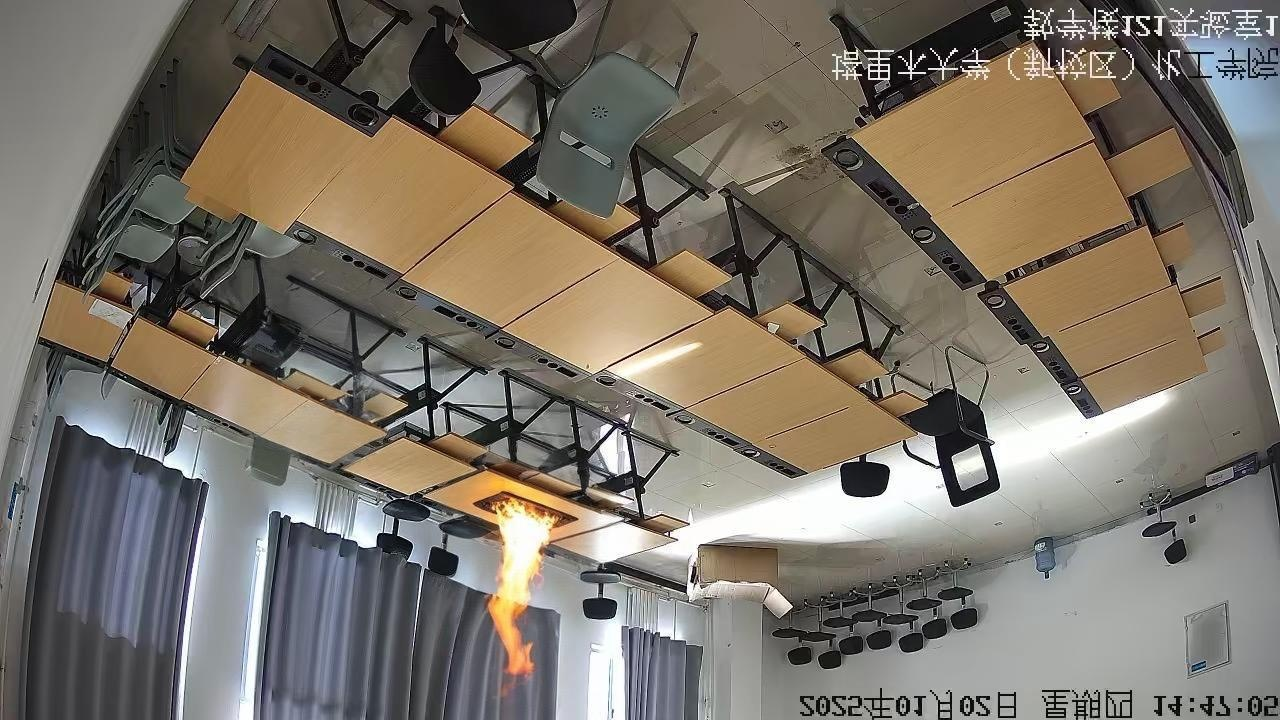fire: (464, 488, 591, 695)
